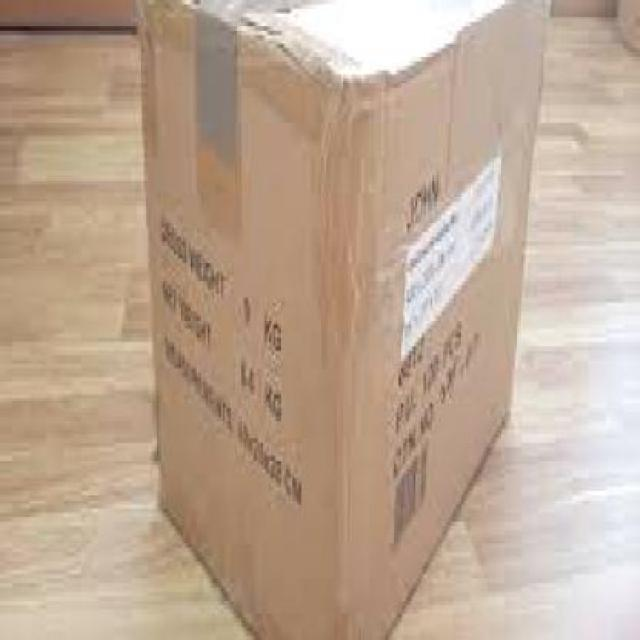box: (133, 0, 564, 635)
